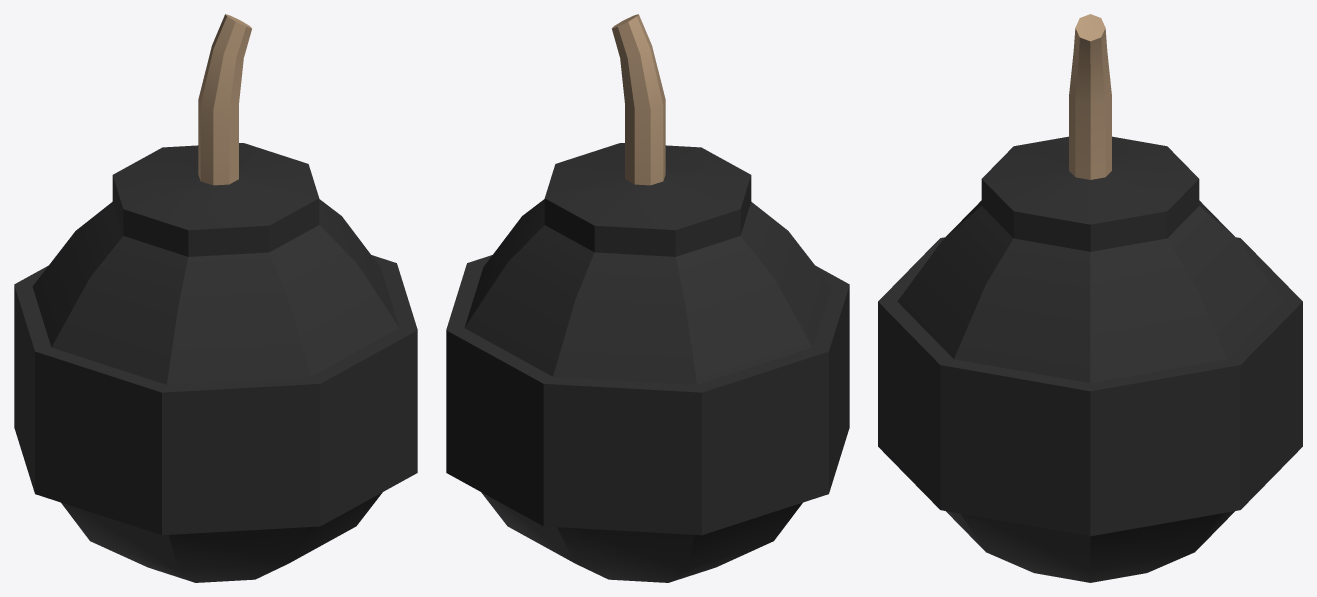
Rendered from Grenade_03.fbx.
3 views of the same model, side by side, from view 1: azimuth 30°, elevation 25°; view 2: azimuth 150°, elevation 25°; view 3: azimuth 270°, elevation 25° (orthographic).
Parts seen in each view (by area): view 1: Grenade_03_LOD0; view 2: Grenade_03_LOD0; view 3: Grenade_03_LOD0.
Boxes of the visible parts, bbox=[...] form: Grenade_03_LOD0: bbox=[14, 14, 417, 582]; Grenade_03_LOD0: bbox=[446, 14, 849, 582]; Grenade_03_LOD0: bbox=[878, 14, 1302, 582].
Size of what is drawn, in the model's own units: 0.1296 by 0.1821 by 0.1296.
